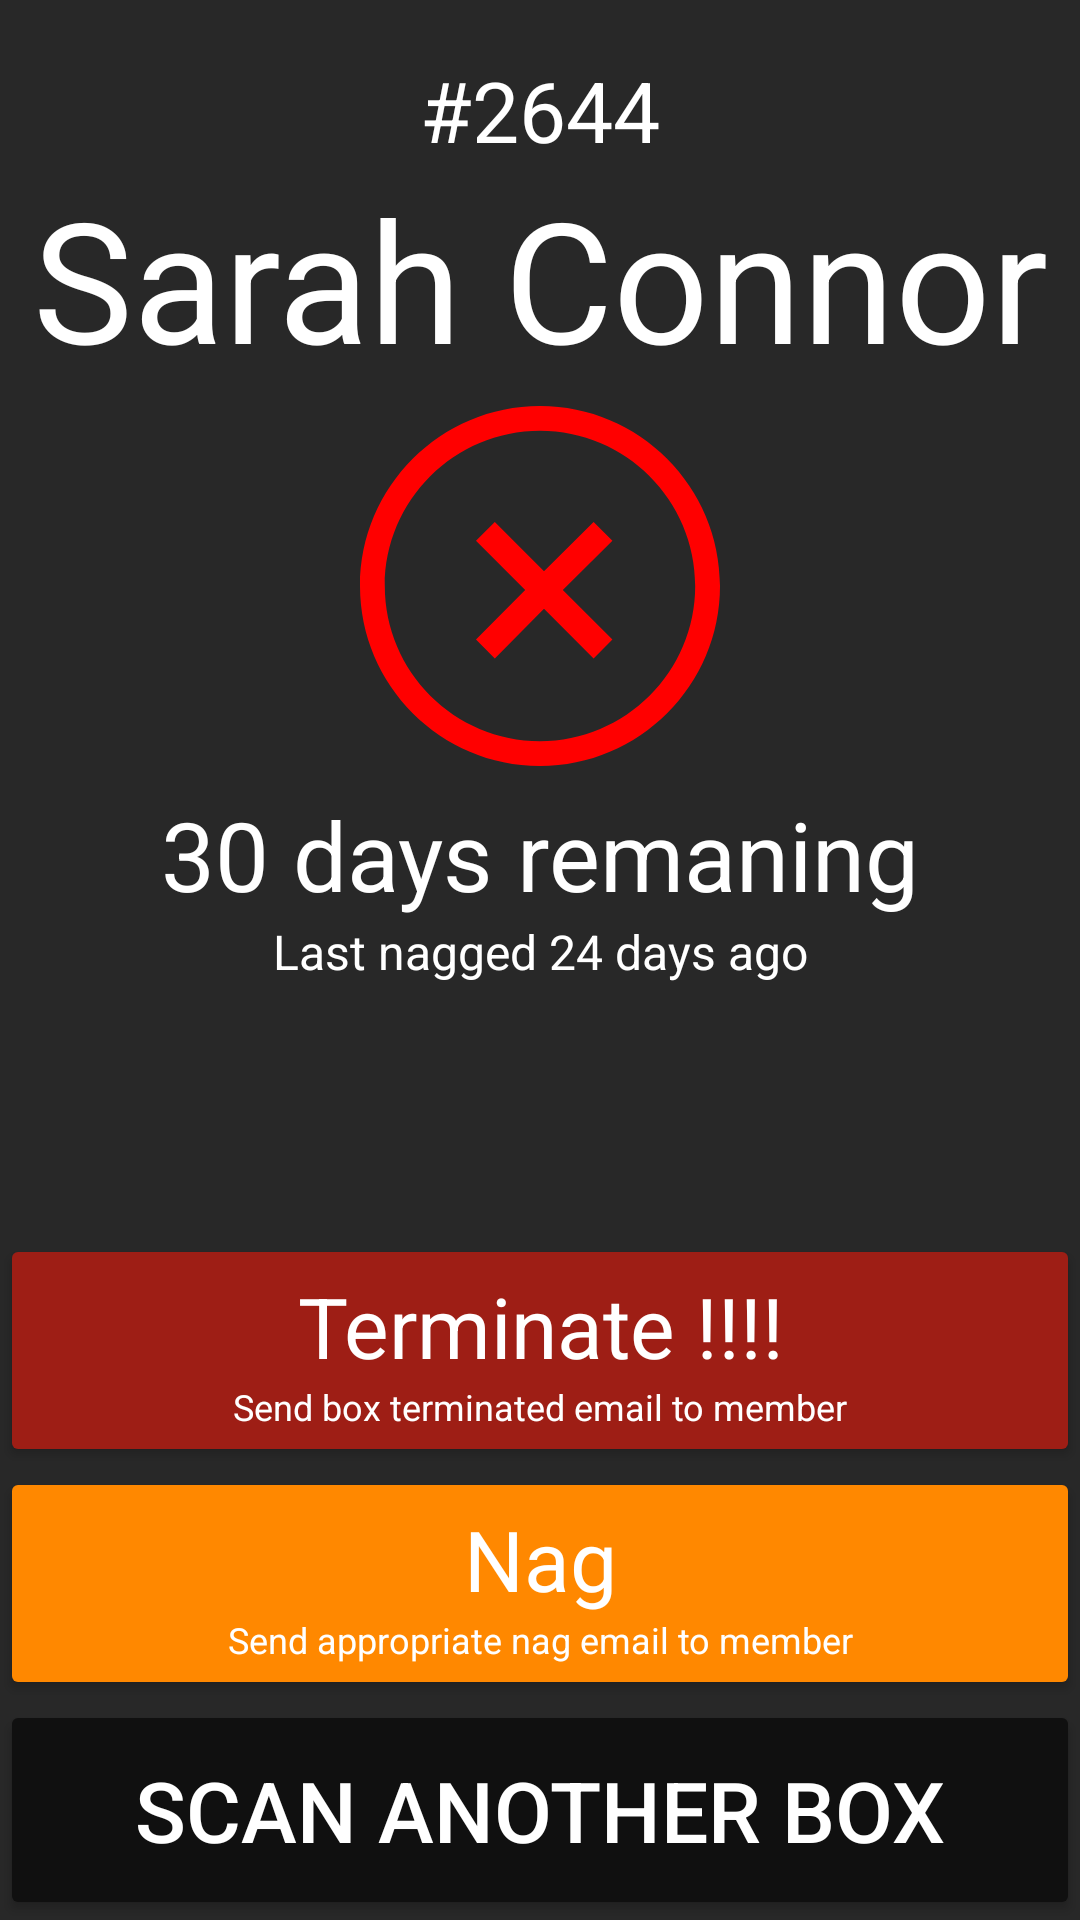

Named icons in this screenshot (1080*1920) and their bounding boxes, (left=x1, top=y1, right=x2, bottom=y2):
noun cross: (left=360, top=406, right=720, bottom=766)
